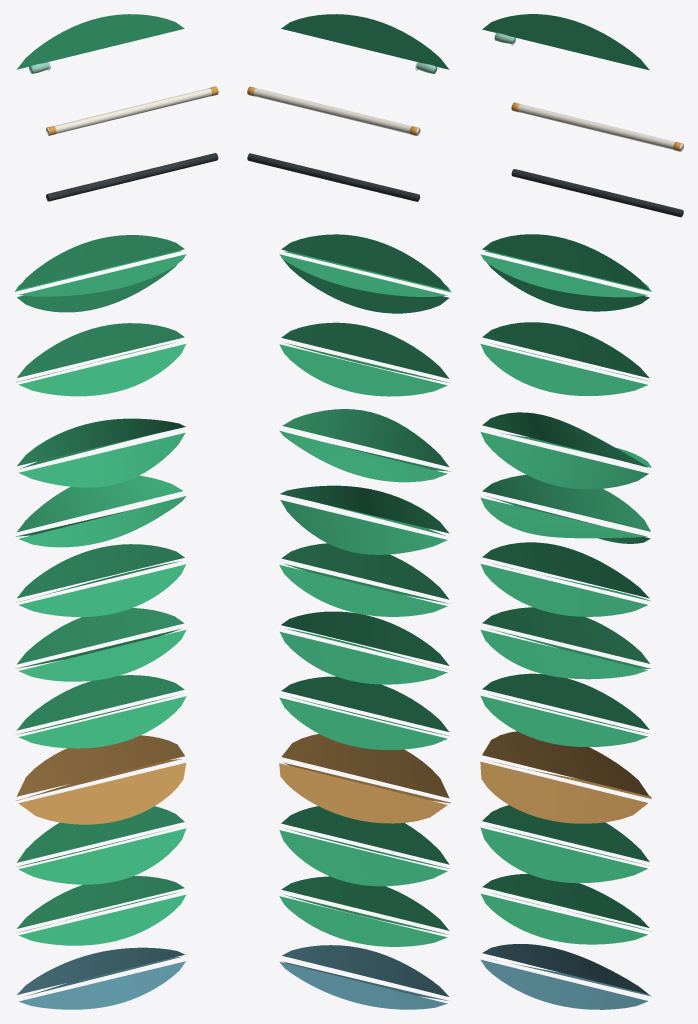
File: fletching.glb
The picture shows the model from 3 angles, left to right: view 1: azimuth 30°, elevation 25°; view 2: azimuth 150°, elevation 25°; view 3: azimuth 330°, elevation 25°; orthographic projection.
Parts seen in each view (by area): view 1: turkey_feather, four_fletch_clocking, mount_right_offset, shield_cut_plastic, mount_straight, mount_left_offset, three_fletch_clocking, mount_right_helical, low_profile_polymer, mount_left_helical, mylar_spinwing, nock_clock_reference (+2 smaller); view 2: turkey_feather, four_fletch_clocking, shield_cut_plastic, three_fletch_clocking, mount_left_offset, mount_straight, mount_right_offset, mount_left_helical, mount_right_helical, low_profile_polymer, mylar_spinwing, nock_clock_reference (+2 smaller); view 3: turkey_feather, four_fletch_clocking, mount_right_offset, shield_cut_plastic, mount_straight, mount_left_offset, three_fletch_clocking, mount_right_helical, low_profile_polymer, mount_left_helical, mylar_spinwing, nock_clock_reference (+2 smaller).
Boxes of the visible parts, x1,y1,x2,y2 form: turkey_feather: (16, 735, 186, 824); four_fletch_clocking: (14, 235, 186, 312); mount_right_offset: (17, 544, 185, 616); shield_cut_plastic: (16, 806, 186, 884); mount_straight: (17, 675, 186, 748); mount_left_offset: (16, 608, 186, 681); three_fletch_clocking: (16, 323, 185, 396); mount_right_helical: (17, 418, 185, 487); low_profile_polymer: (17, 876, 185, 945); mount_left_helical: (16, 475, 186, 547); mylar_spinwing: (17, 947, 185, 1009); nock_clock_reference: (17, 14, 184, 73); turkey_feather: (279, 734, 450, 823); four_fletch_clocking: (279, 234, 451, 313); shield_cut_plastic: (279, 806, 449, 886); three_fletch_clocking: (279, 322, 449, 396); mount_left_offset: (280, 611, 449, 684); mount_straight: (279, 676, 449, 749); mount_right_offset: (279, 543, 450, 616); mount_left_helical: (280, 485, 449, 554); mount_right_helical: (279, 409, 450, 482); low_profile_polymer: (279, 876, 449, 946); mylar_spinwing: (279, 945, 448, 1009); nock_clock_reference: (281, 14, 449, 73); turkey_feather: (480, 731, 651, 823); four_fletch_clocking: (480, 234, 651, 311); mount_right_offset: (480, 542, 650, 616); shield_cut_plastic: (480, 805, 649, 883); mount_straight: (480, 673, 649, 746); mount_left_offset: (480, 607, 650, 679); three_fletch_clocking: (480, 322, 649, 395); mount_right_helical: (480, 412, 651, 489); low_profile_polymer: (481, 873, 650, 944); mount_left_helical: (480, 475, 650, 543); mylar_spinwing: (481, 944, 651, 1009); nock_clock_reference: (482, 14, 649, 70).
Bounding box in the file's own units: 0.19 × 0.8889 × 0.0701.
Materials: 7 (1 with a texture image).
